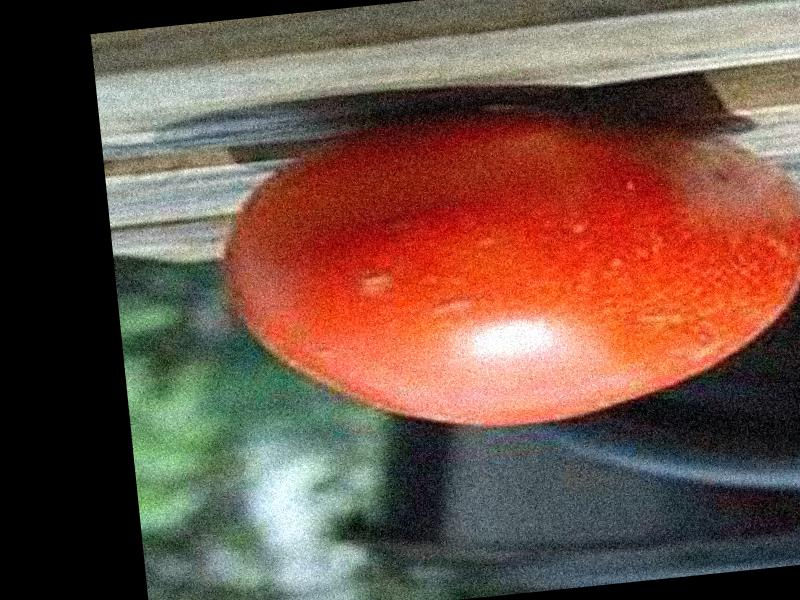Tomato: (209, 84, 800, 454)
